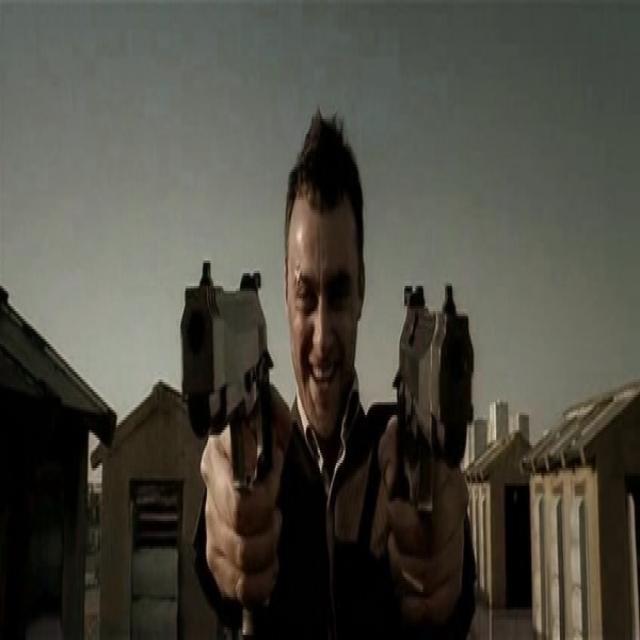weapons: (166, 190, 279, 526), (390, 249, 479, 535)
